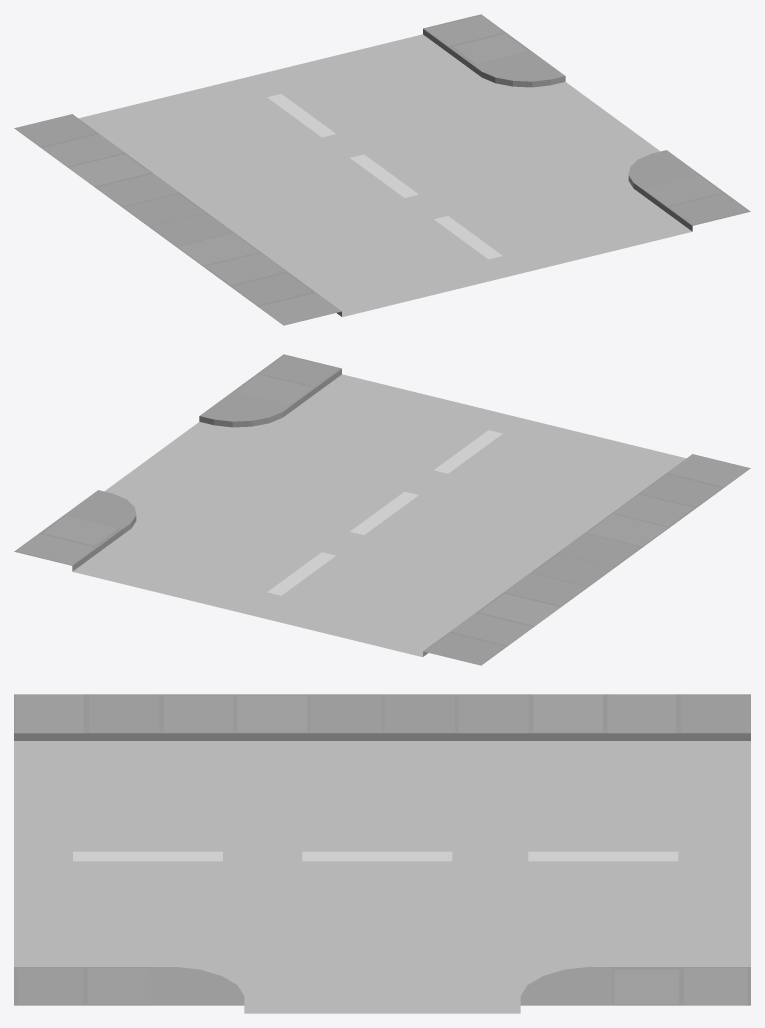
The model's file is tile_road_crossroad_1x1_c.fbx.
The picture shows the model from 3 angles, top to bottom: view 1: azimuth 30°, elevation 25°; view 2: azimuth 150°, elevation 25°; view 3: azimuth 270°, elevation 25°; orthographic projection. The views are drawn at different scales.
Parts seen in each view (by area): view 1: tile_road_crossroad_1x1_c; view 2: tile_road_crossroad_1x1_c; view 3: tile_road_crossroad_1x1_c.
Boxes of the visible parts, x1=… form: tile_road_crossroad_1x1_c: x1=14, y1=14, x2=750, y2=325; tile_road_crossroad_1x1_c: x1=14, y1=354, x2=750, y2=665; tile_road_crossroad_1x1_c: x1=14, y1=694, x2=750, y2=1013.
Bounding box in the file's own units: 1600 × 19.01 × 1600.
